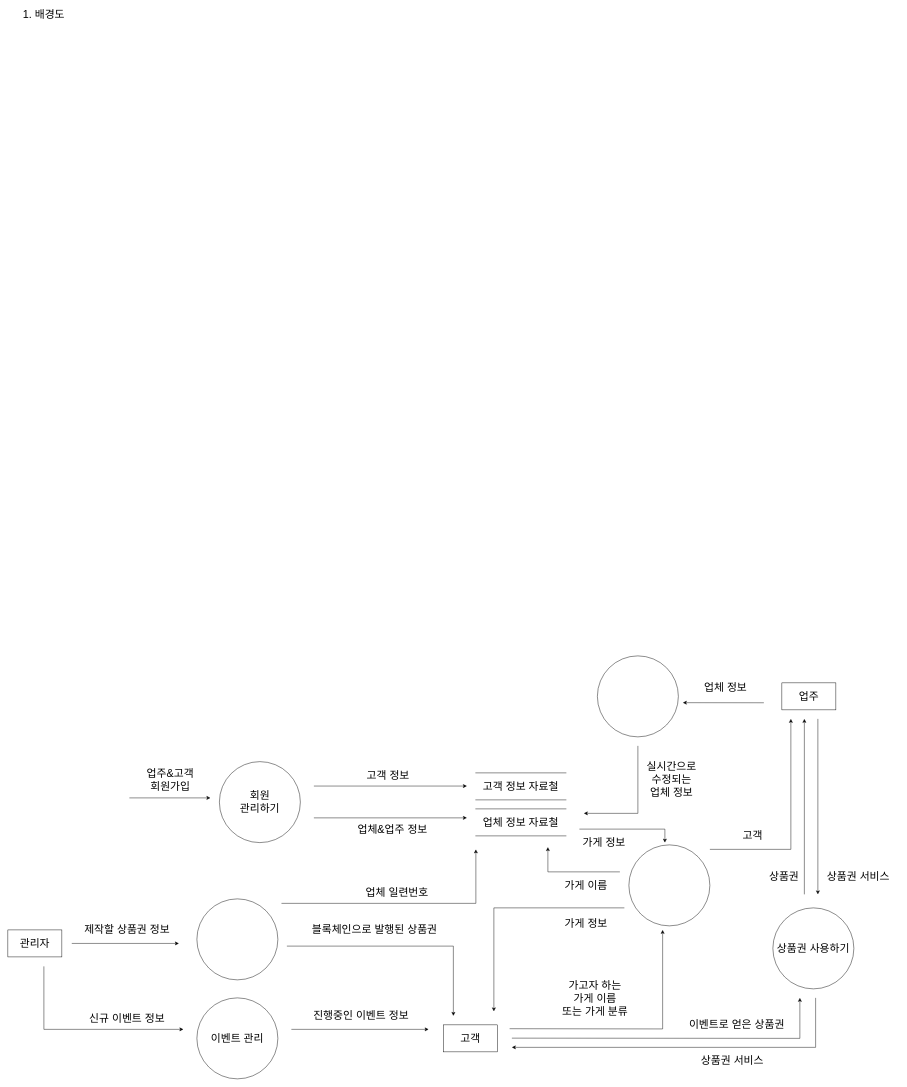
Image size: 907x1087. Some labels were removed from this diagram. Each missing label, with the centre of its shape:
"가게 검색하기" goes at [669,885].
"블록체인으로 상품권 관리" goes at [237,939].
"업체 정보 수정하기" goes at [637,696].
